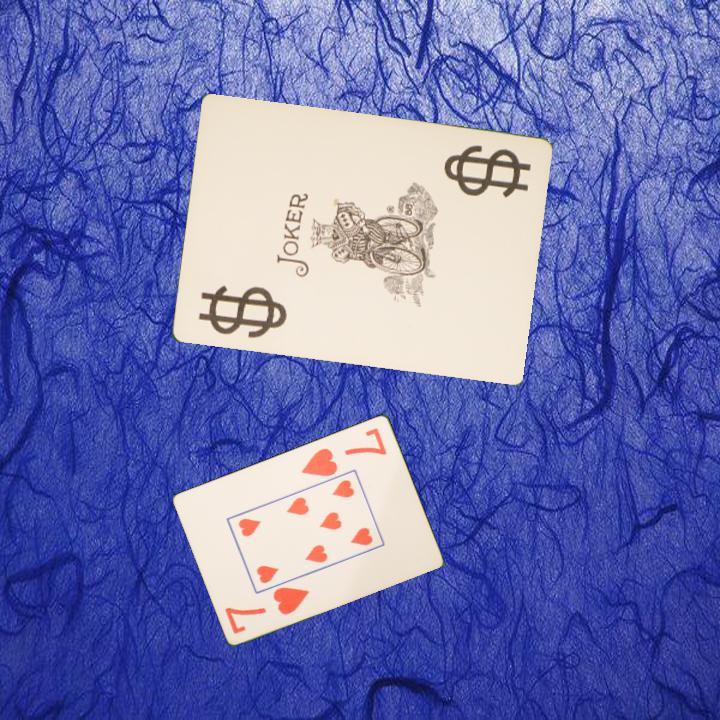7h: (298, 424, 390, 479), (221, 583, 312, 637)
JK: (440, 141, 533, 195), (210, 296, 283, 333)
